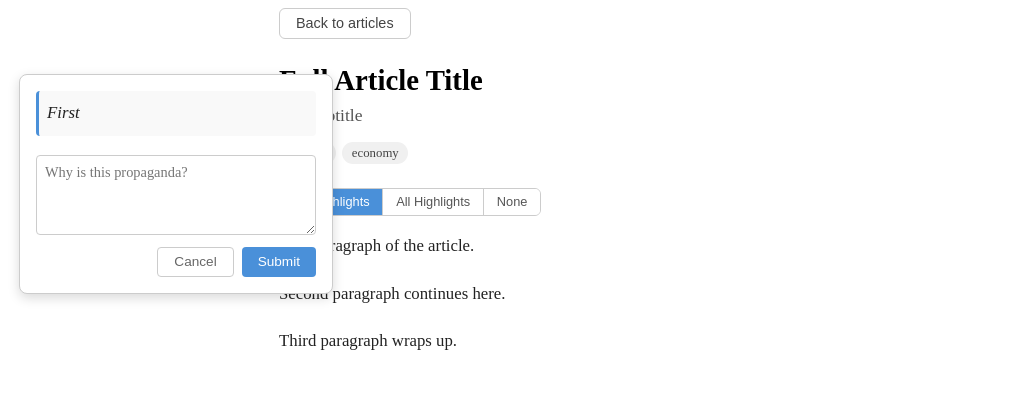
Scenario: ArticleReader — auth & toggle › shows error message when highlight creation fails
The image size is (1016, 416).
Type "Loaded language" into the text box at (176, 195), box x1=36 y1=155 x2=316 y2=235
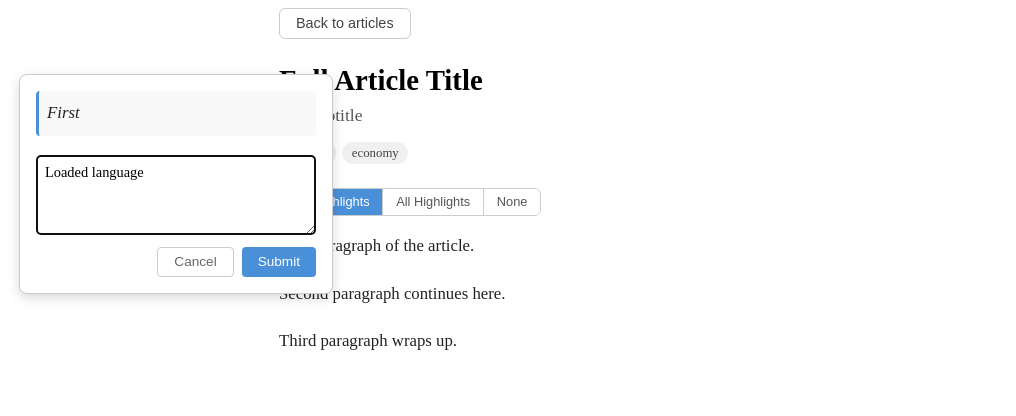
Click the button "Submit" at (279, 262), box x1=242 y1=247 x2=316 y2=276
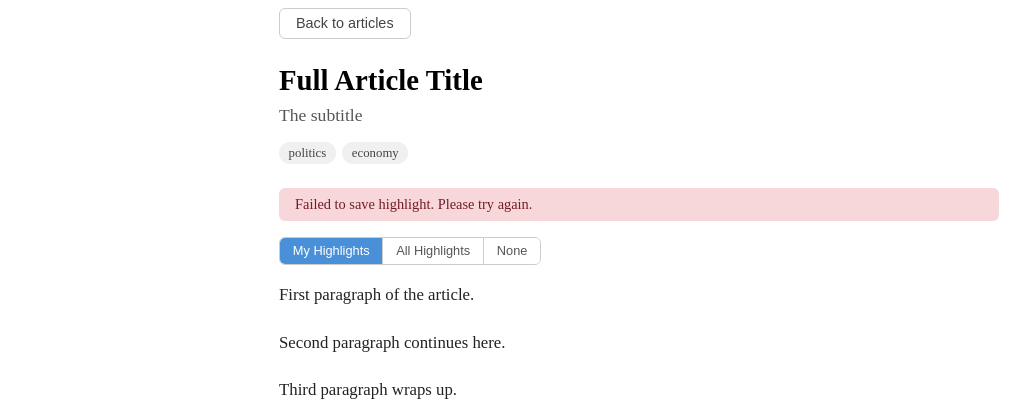
Result: the text "Failed to save highlight. Please try again." is shown at x1=279 y1=188 x2=999 y2=221
